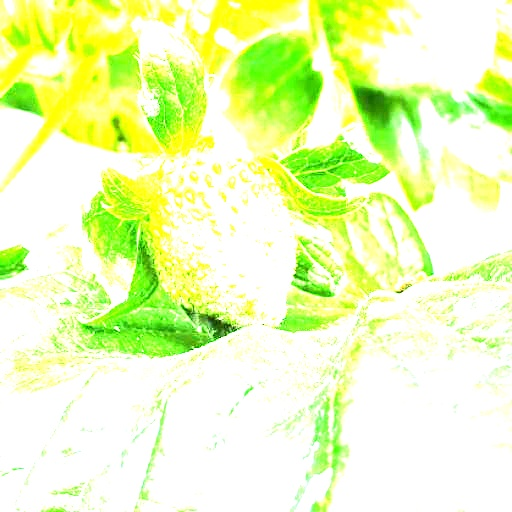Powdery Mildew Fruit: (148, 183, 295, 329)
